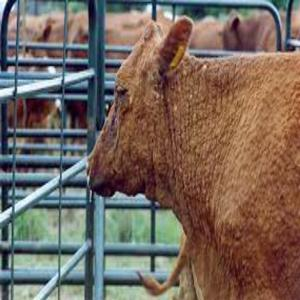lumpy skin diesease: (85, 12, 299, 299)
